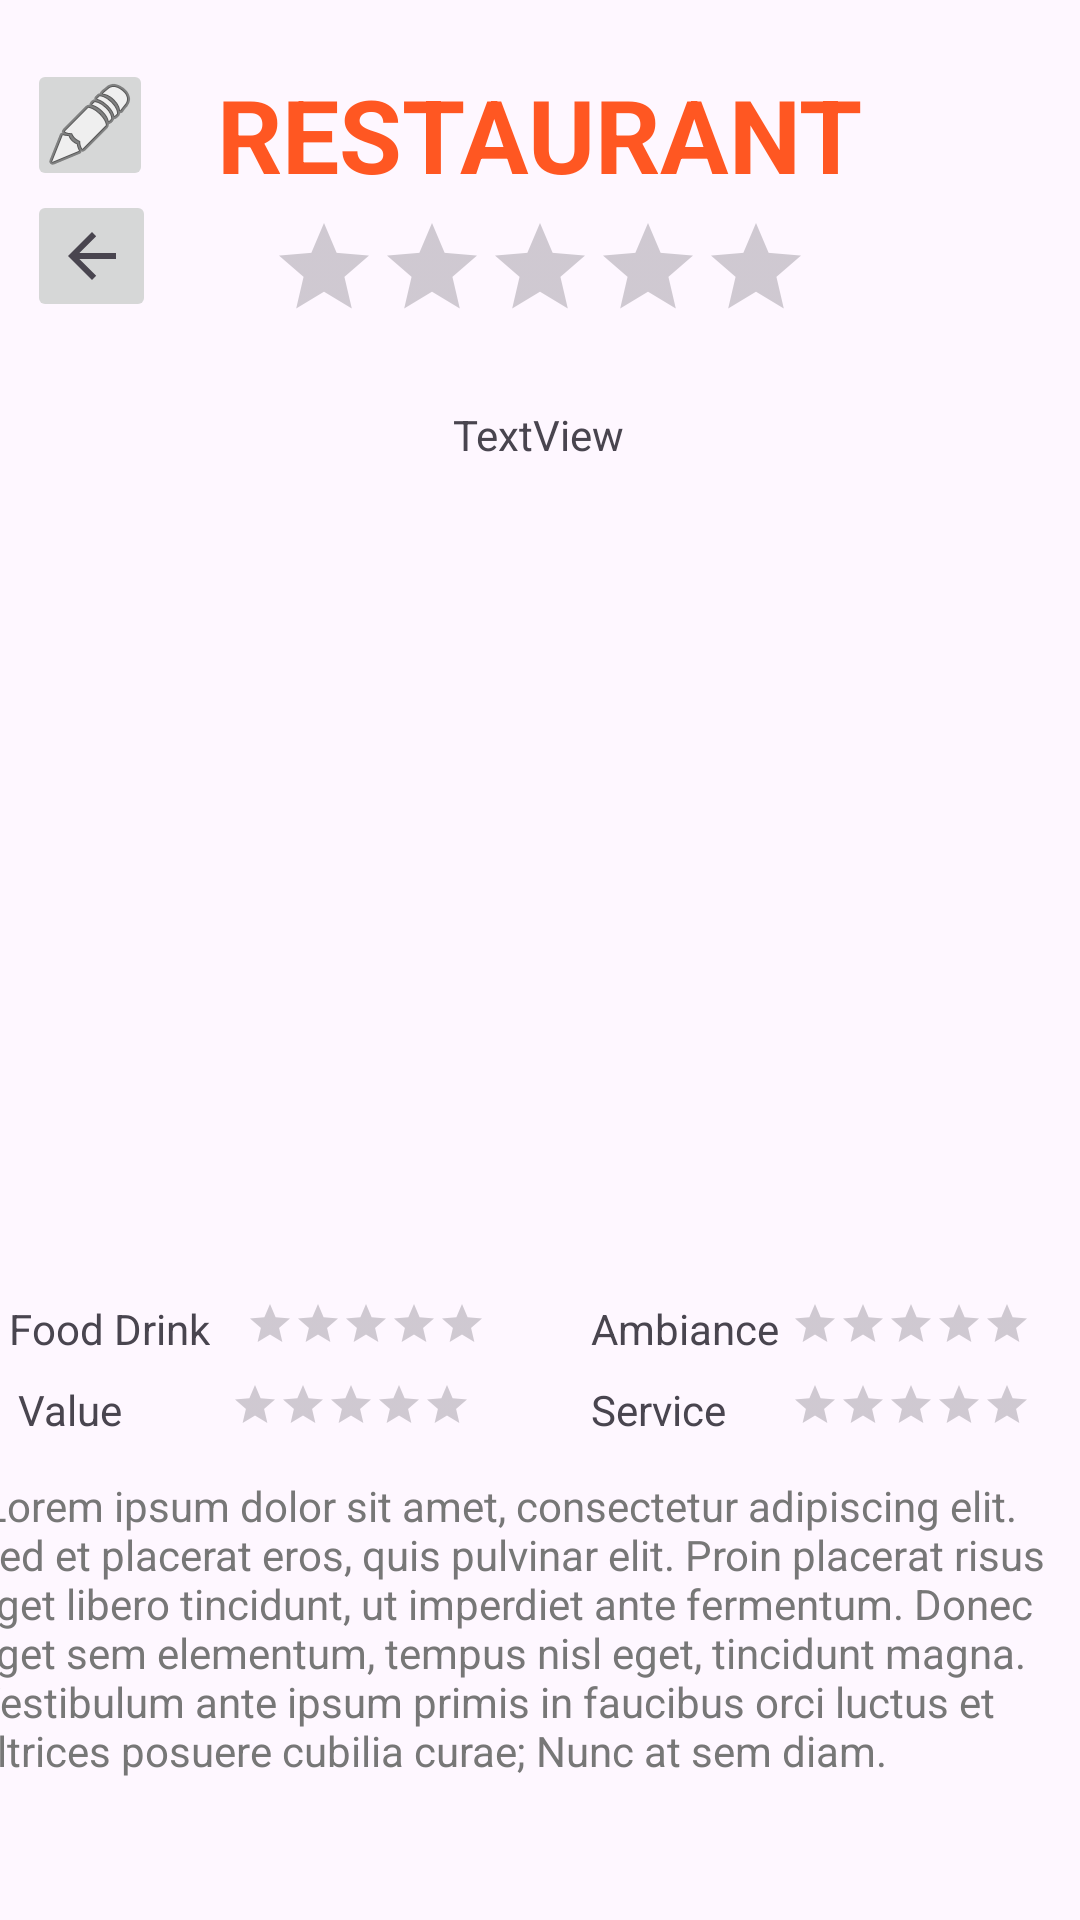

Where icons sit on this 1080x1920 app screen, as (x1,y1,x2,y2):
edit: (39,77,141,173)
